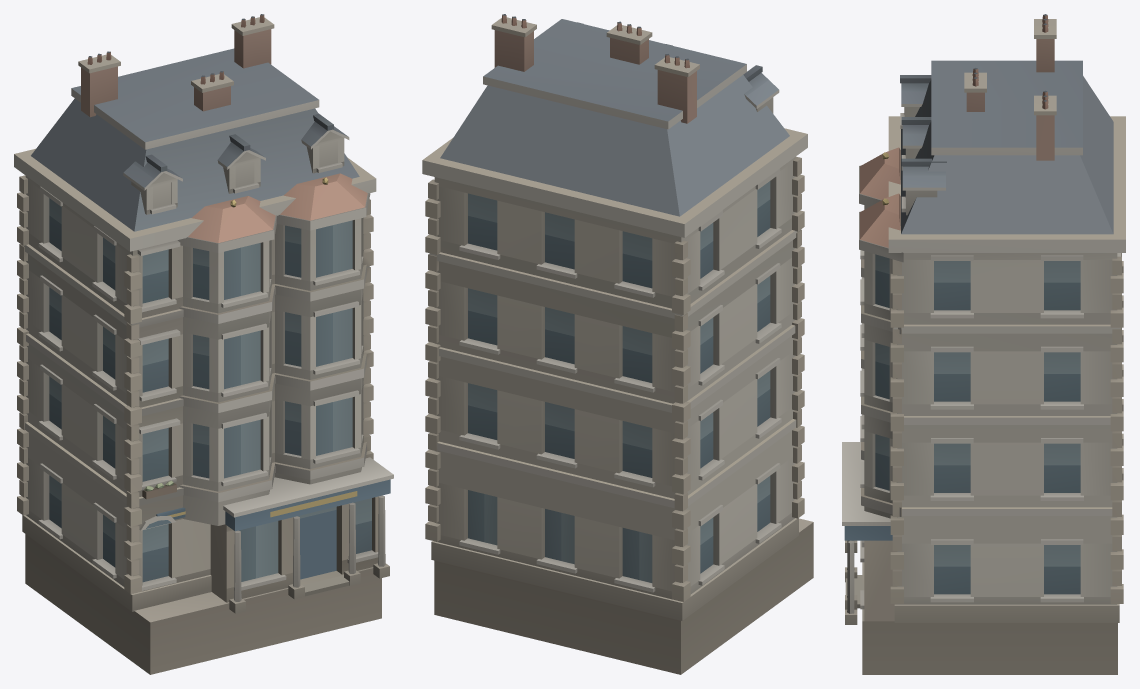
The model's file is hotel.lod1.glb.
3 views of the same model, side by side, from view 1: azimuth 30°, elevation 25°; view 2: azimuth 150°, elevation 25°; view 3: azimuth 270°, elevation 25° (orthographic). The views are drawn at different scales.
Bounding box in the file's own units: 7.99 × 16.83 × 7.75.
